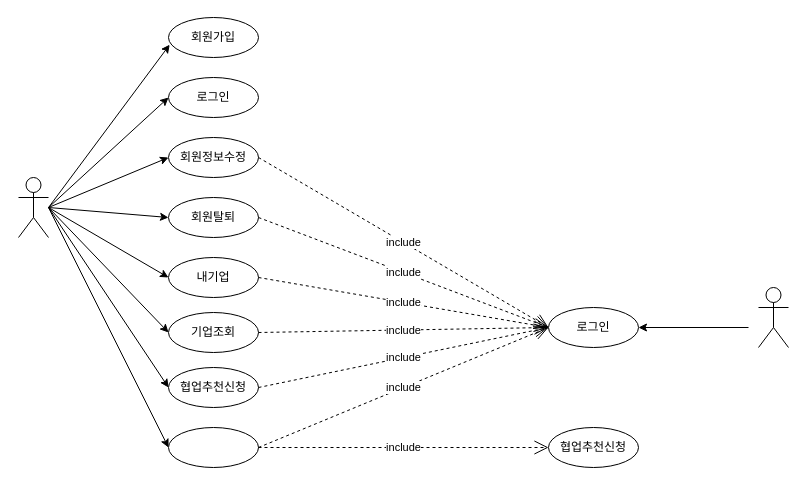
The diagram is 807 pixels wide and 485 high, and some of its shapes have lost their labels. The shapes that lost their labels are listed below. From the top down, each one's centre as x and y in pixels, then its label:
pixel 33 207: 사용자
pixel 773 317: 관리자
pixel 213 447: 추천결과열람
